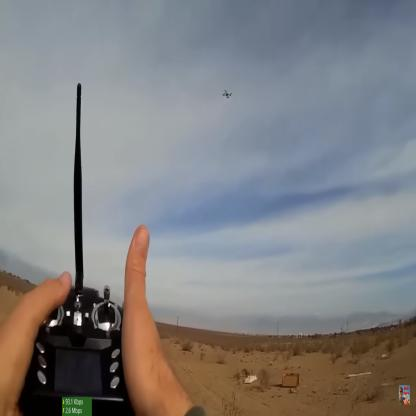drone: (220, 86, 234, 102)
